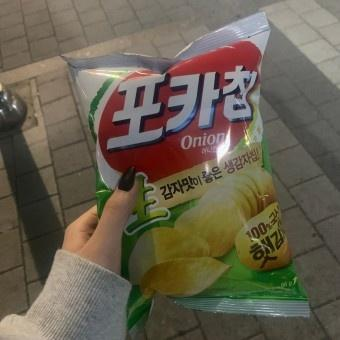snack: (59, 8, 311, 340)
